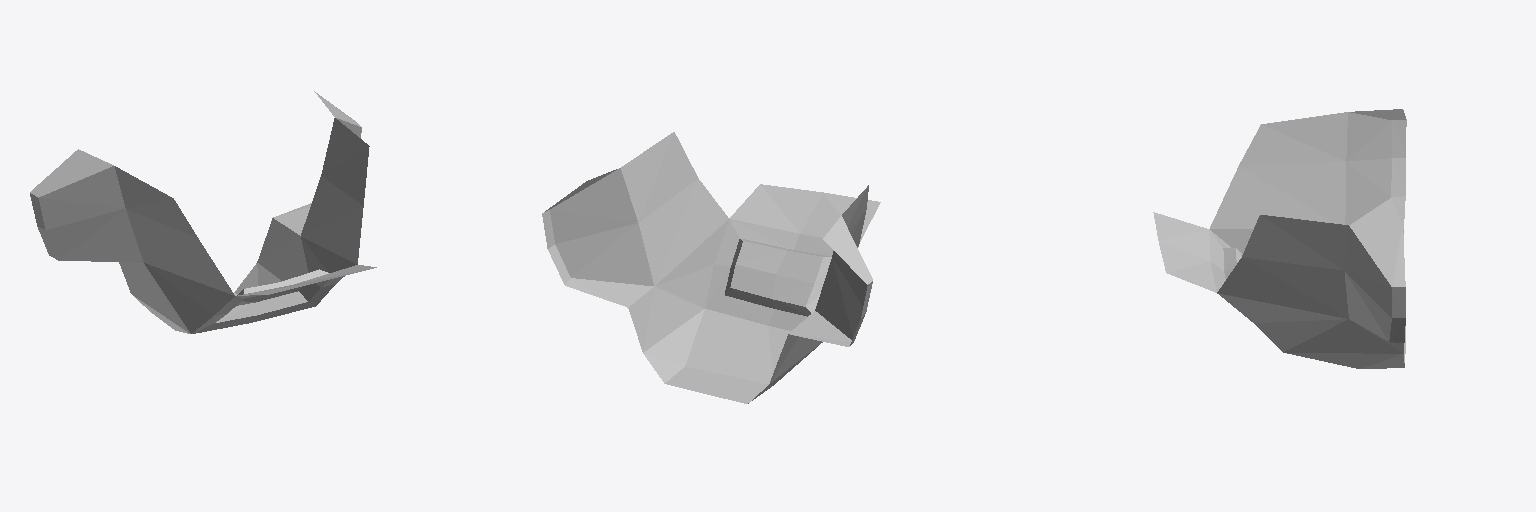
Rendered from X02LeftPawBack.obj.
3 renders of one model, left to right at view 1: azimuth 30°, elevation 25°; view 2: azimuth 150°, elevation 25°; view 3: azimuth 270°, elevation 25°, orthographic.
Visible parts, largest first — view 1: CPA.001; view 2: CPA.001; view 3: CPA.001.
Part boxes in pixels (left/top/right/bottom): CPA.001: left=30, top=91, right=376, bottom=333; CPA.001: left=542, top=132, right=880, bottom=403; CPA.001: left=1153, top=109, right=1406, bottom=368.
Bounding box in the file's own units: 25.69 × 13.86 × 17.28.